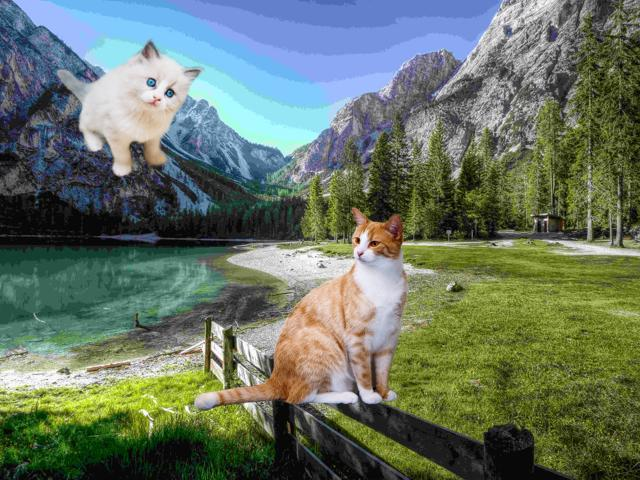cat: (183, 200, 420, 418), (42, 39, 212, 175)
